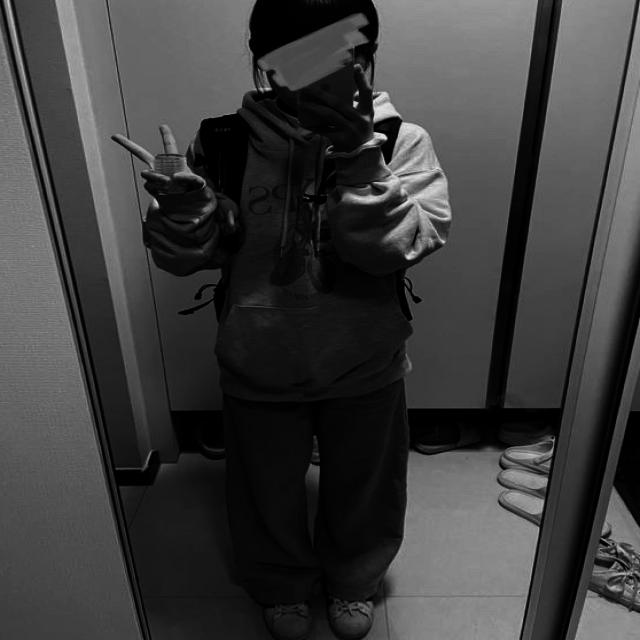hoodies: (142, 92, 454, 404)
trainingpants: (228, 374, 416, 604)
